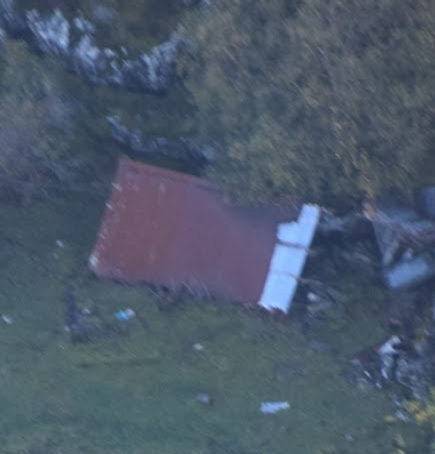cuboid: (80, 151, 326, 322)
scattered_barrel: (111, 296, 296, 421)
